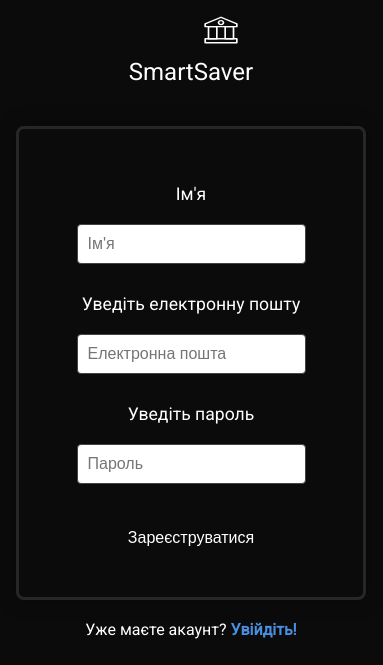
Registration Page › shows an error message when registration fails
Type "E2E User" into the field with id "name". click: [192, 244]
box: [77, 224, 306, 264]
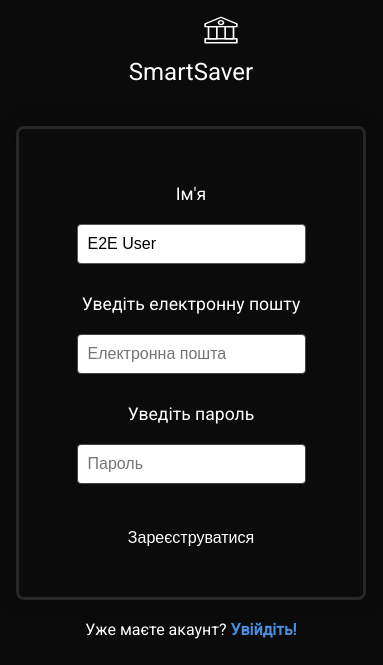
Type "e2e.user@example.com" into the field with id "email". click: [192, 354]
box: [77, 334, 306, 374]
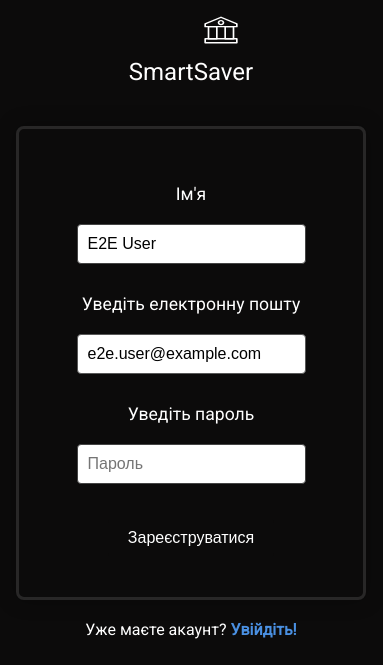
Type "password123" into the password field labelled "Уведіть пароль". click: [192, 464]
box: [77, 444, 306, 484]
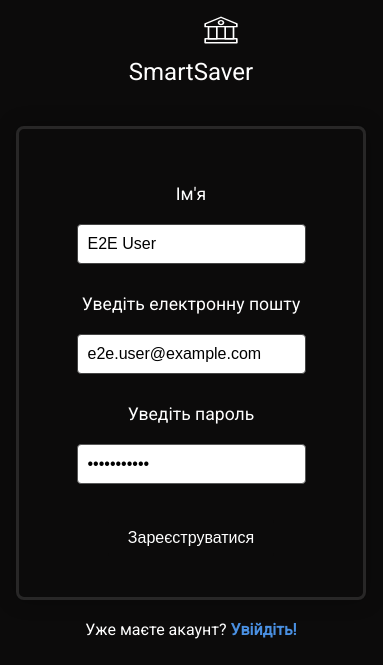
Click the submit button. click: [191, 538]
box: [108, 519, 274, 557]
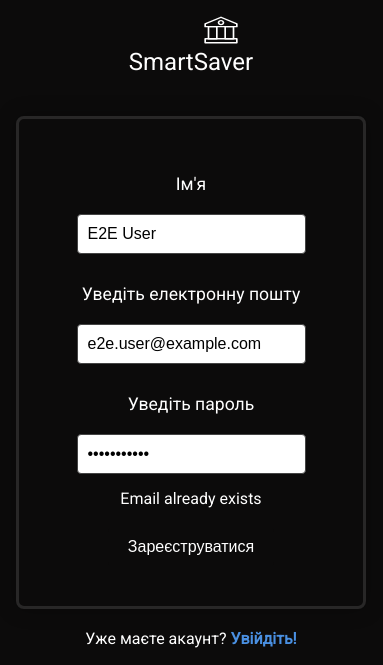
Expected: the submit button is enabled
Expected: the text "Email already exists" is shown, [120, 489, 262, 508]
